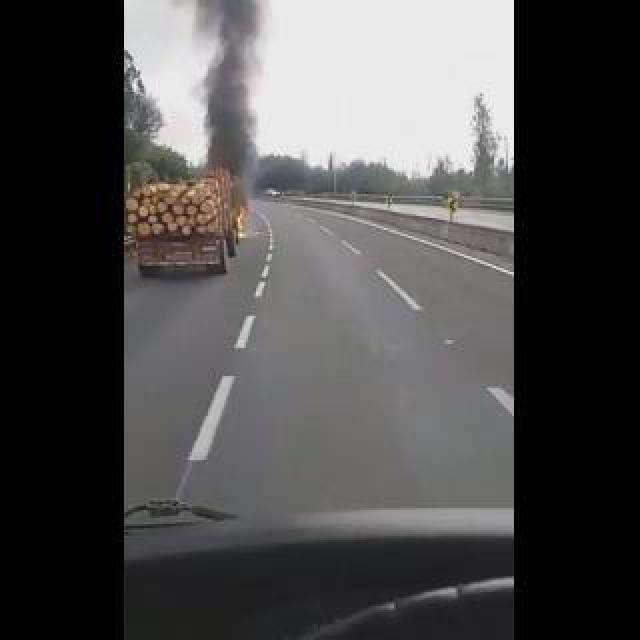Fire: (234, 208, 250, 236)
Smoke: (196, 2, 272, 183)
